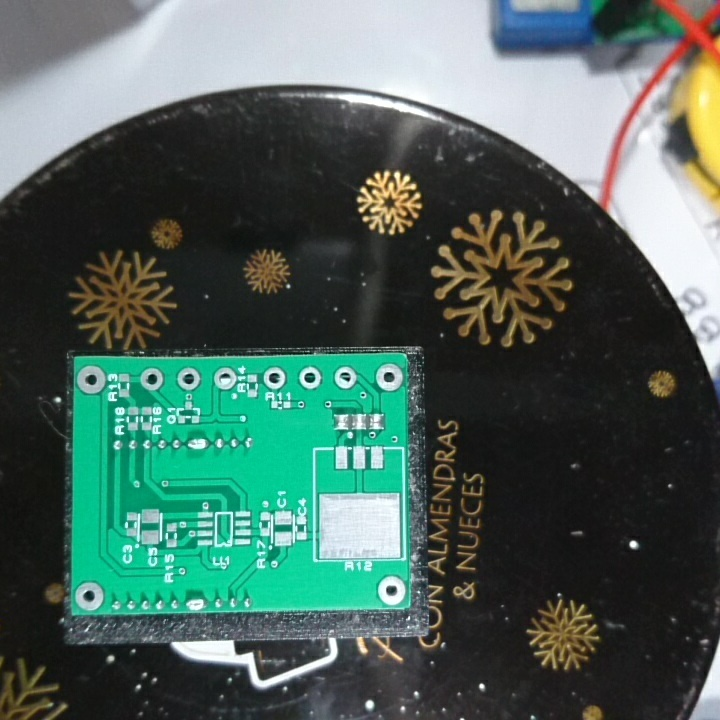F: (74, 362, 108, 397), (374, 572, 408, 607), (72, 580, 106, 612), (212, 363, 243, 395), (374, 363, 404, 394), (296, 363, 326, 393), (174, 363, 202, 392), (259, 366, 290, 392), (137, 366, 167, 392), (331, 364, 361, 390)
P: (183, 435, 210, 453), (183, 596, 207, 612)
